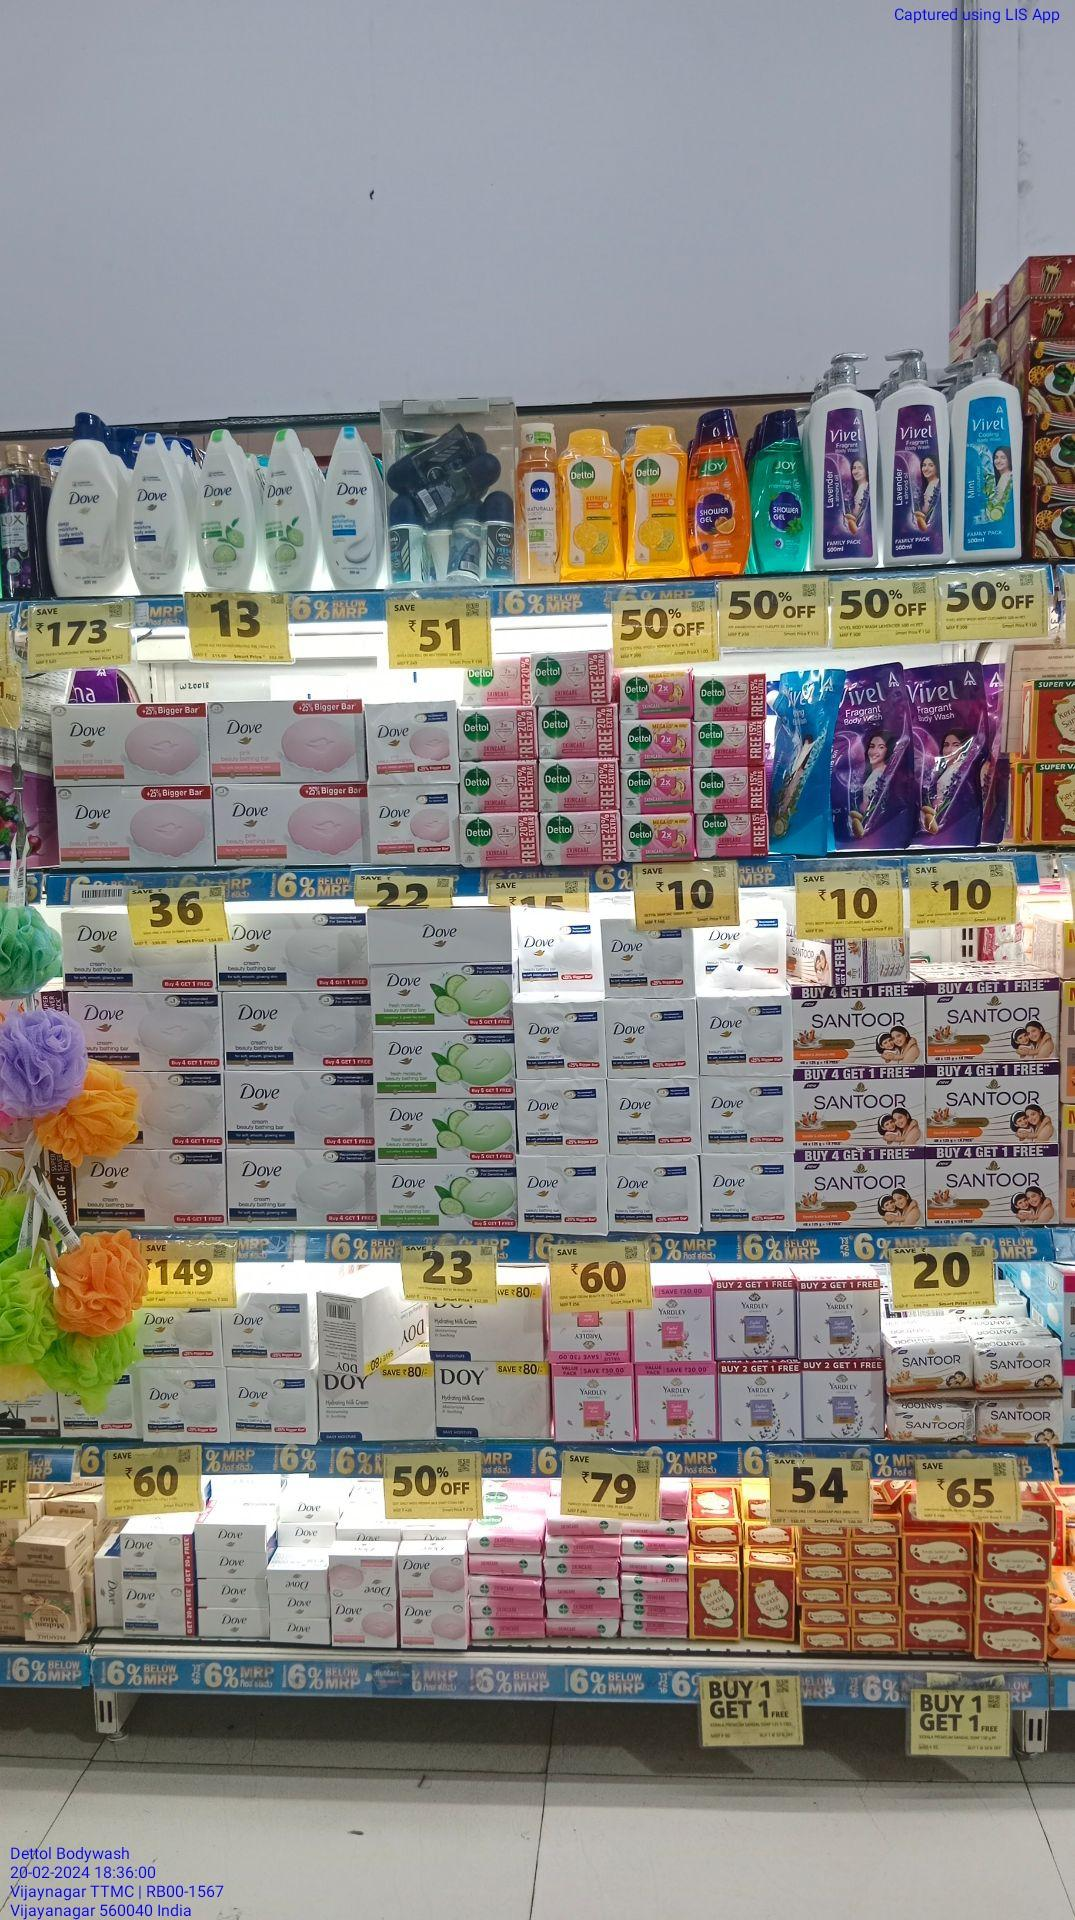Dettol_Bodywash_Refresh: (558, 422, 624, 580), (628, 426, 692, 579)
Dove_Deep_Moisture_Body_Wash_250ML: (129, 430, 187, 593)
Dove_Gentle_Exfoliating_Body_Wash_250ML: (323, 423, 383, 588)
Dove_Refreshing_Body_Wash_250ML: (194, 422, 256, 591), (262, 422, 315, 591)
Joy_Shower_Gel_Mandarin_and_Lemongrass_250ML: (696, 410, 752, 574)
Joy_Shower_Gel_Mint_and_Eucalyptus_250ML: (757, 411, 810, 572)
